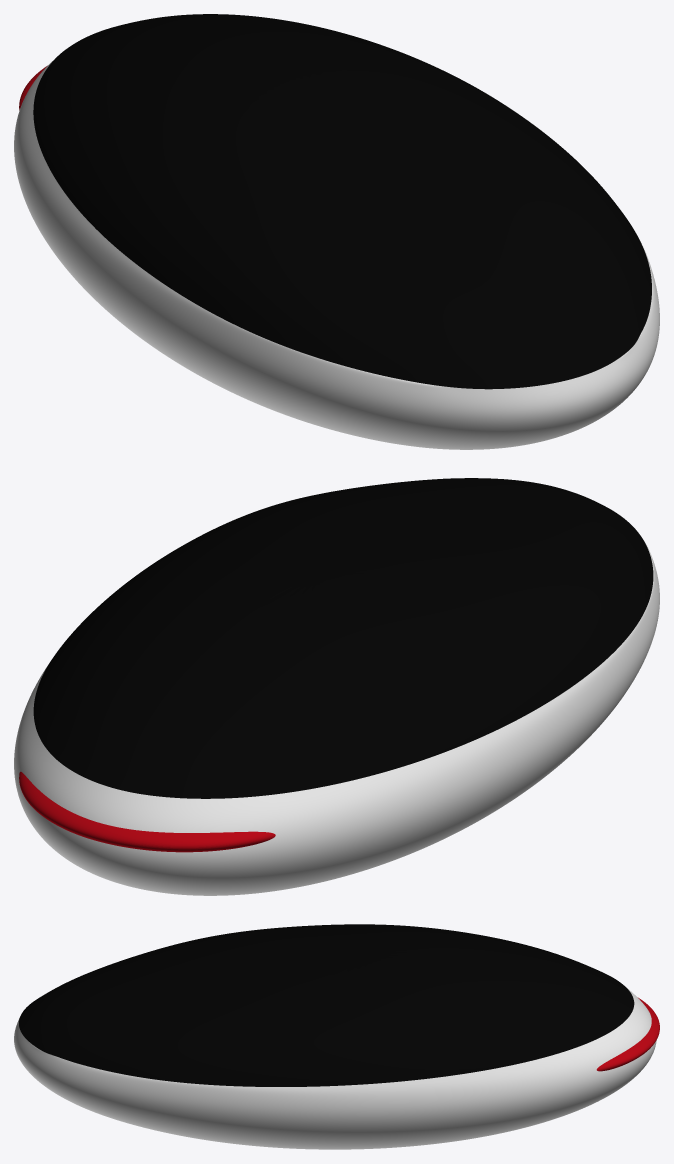
Rendered from autofinal.fbx.
The picture shows the model from 3 angles, top to bottom: view 1: azimuth 30°, elevation 25°; view 2: azimuth 150°, elevation 25°; view 3: azimuth 270°, elevation 25°; orthographic projection. The views are drawn at different scales.
Visible parts, largest first — view 1: Sphere.001, Sphere; view 2: Sphere.001, Sphere, Sphere.002; view 3: Sphere.001, Sphere, Sphere.002.
Part boxes in pixels (<box>): Sphere.001: <box>33,14,651,389</box>; Sphere: <box>14,59,659,449</box>; Sphere.001: <box>33,478,653,798</box>; Sphere: <box>14,539,659,895</box>; Sphere.002: <box>19,771,275,852</box>; Sphere.001: <box>19,924,634,1086</box>; Sphere: <box>14,987,656,1149</box>; Sphere.002: <box>596,997,659,1071</box>.
Bounding box in the file's own units: 331 × 170 × 599.
